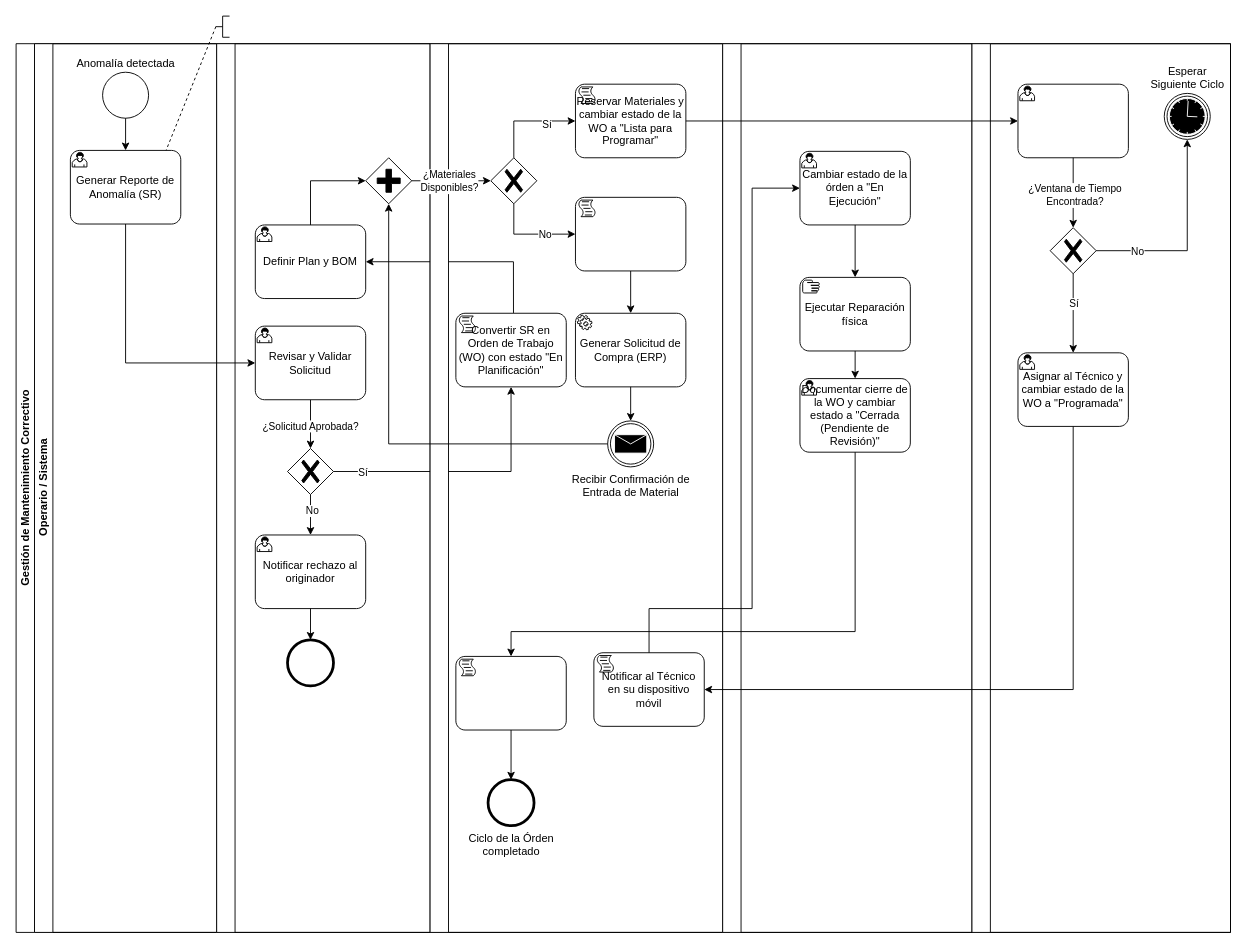
Some shapes in this 1247 by 949 pixel diagram are drawn without their labels. Here are the shapes that lost their labels. From the top down, the box of each, then its label:
(215, 15, 230, 37): O un alerta automática del sistema
(1017, 83, 1128, 158): Programar Trabajo
(575, 196, 686, 271): Cambiar estado de la WO a "En Espera de Repuestos"
(216, 43, 430, 932): Planificador de Mantenimiento
(429, 43, 723, 932): Sistema (CMMS)
(722, 43, 972, 932): Técnico de Mantenimiento
(971, 43, 1230, 932): Programador
(287, 639, 334, 686): Fin del Proceso
(455, 656, 566, 730): Actualizar Historial
